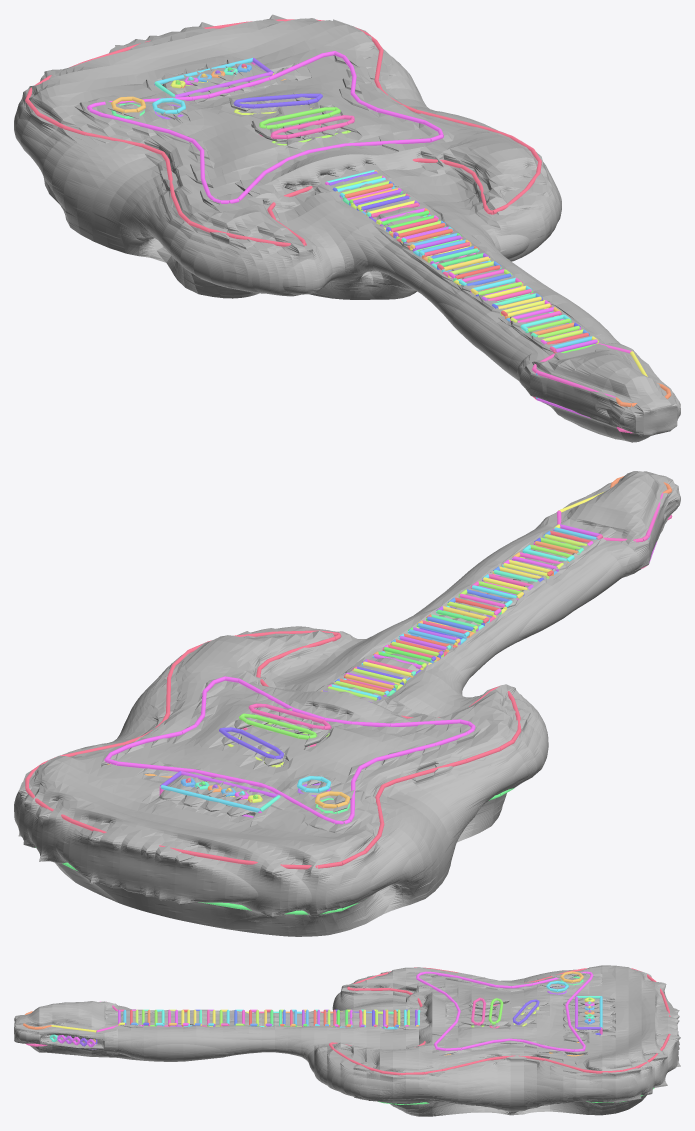
The model's file is onshape_guitar.gltf.
3 renders of one model, top to bottom at view 1: azimuth 30°, elevation 25°; view 2: azimuth 150°, elevation 25°; view 3: azimuth 270°, elevation 25°, orthographic. The views are drawn at different scales.
Bounding box in the file's own units: 0.3983 × 0.0999 × 0.9566.
